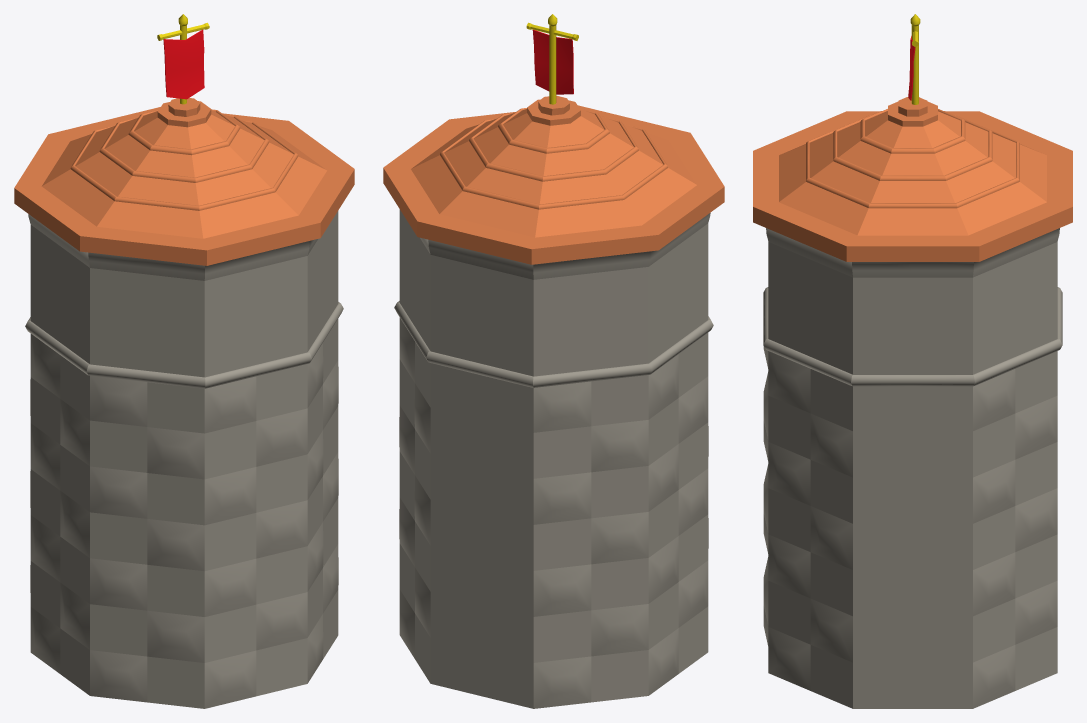
File: Torre3.fbx
The picture shows the model from 3 angles, left to right: view 1: azimuth 30°, elevation 25°; view 2: azimuth 150°, elevation 25°; view 3: azimuth 270°, elevation 25°; orthographic projection.
Visible parts, largest first — view 1: Torre; view 2: Torre; view 3: Torre.
Boxes of the visible parts, x1,y1,x2,y2 form: Torre: [14, 14, 354, 708]; Torre: [383, 14, 724, 708]; Torre: [753, 14, 1072, 708].
Bounding box in the file's own units: 23.38 × 51.13 × 23.38.
